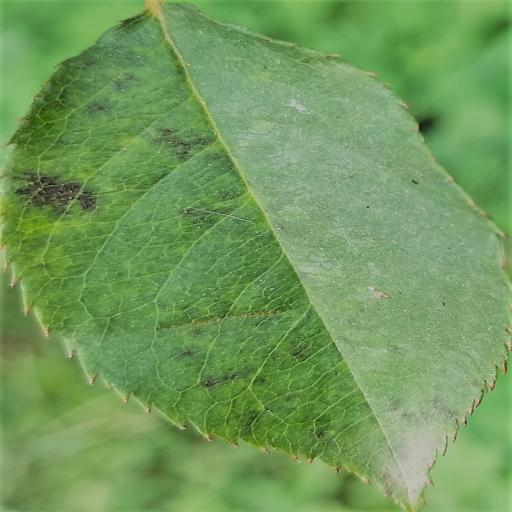black_spot: (2, 0, 511, 512)
